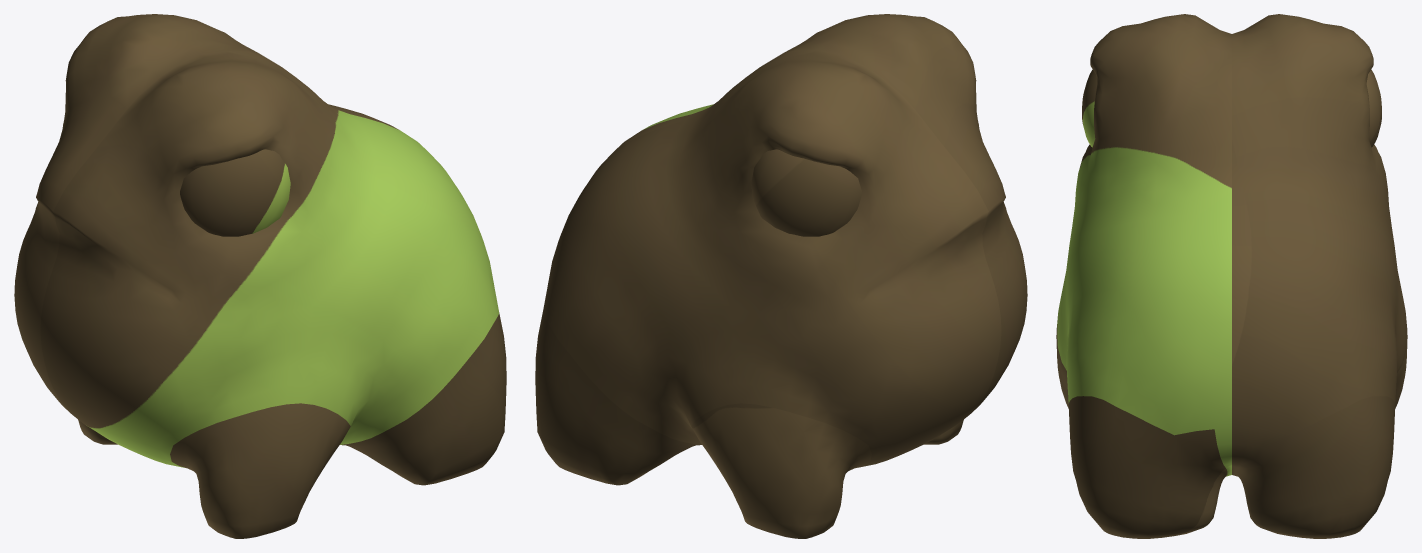
The model's file is Frog@MorphIn 1.FBX.
The picture shows the model from 3 angles, left to right: view 1: azimuth 30°, elevation 25°; view 2: azimuth 150°, elevation 25°; view 3: azimuth 270°, elevation 25°; orthographic projection. The views are drawn at different scales.
Visible parts, largest first — view 1: FrogRetop2; view 2: FrogRetop2; view 3: FrogRetop2.
Part boxes in pixels (bbox=[...]): FrogRetop2: bbox=[14, 14, 506, 538]; FrogRetop2: bbox=[535, 14, 1027, 538]; FrogRetop2: bbox=[1056, 14, 1407, 538].
Bounding box in the file's own units: 92.44 × 70.3 × 90.08.
